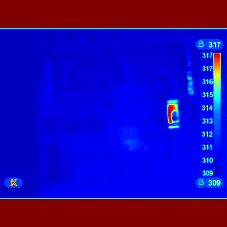High: (164, 99, 186, 131)
